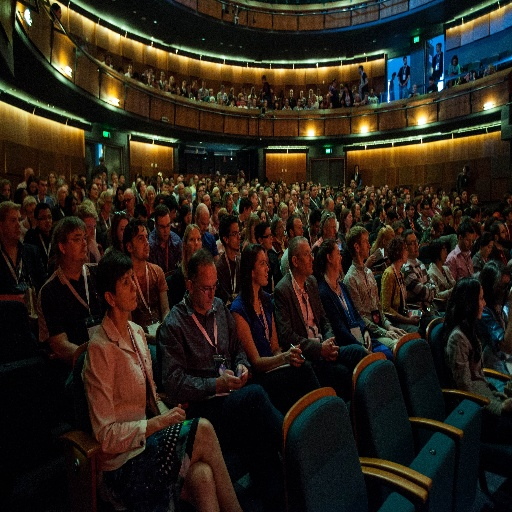hand: (159, 401, 185, 428), (218, 368, 242, 391), (287, 342, 303, 367), (321, 341, 339, 361), (234, 362, 249, 381), (86, 236, 97, 252), (363, 329, 371, 350), (407, 314, 421, 326), (386, 329, 399, 341), (391, 326, 406, 336), (322, 335, 338, 344), (365, 252, 375, 265), (447, 286, 453, 297), (429, 226, 435, 236), (113, 181, 116, 188), (399, 82, 402, 89), (401, 82, 404, 89)
